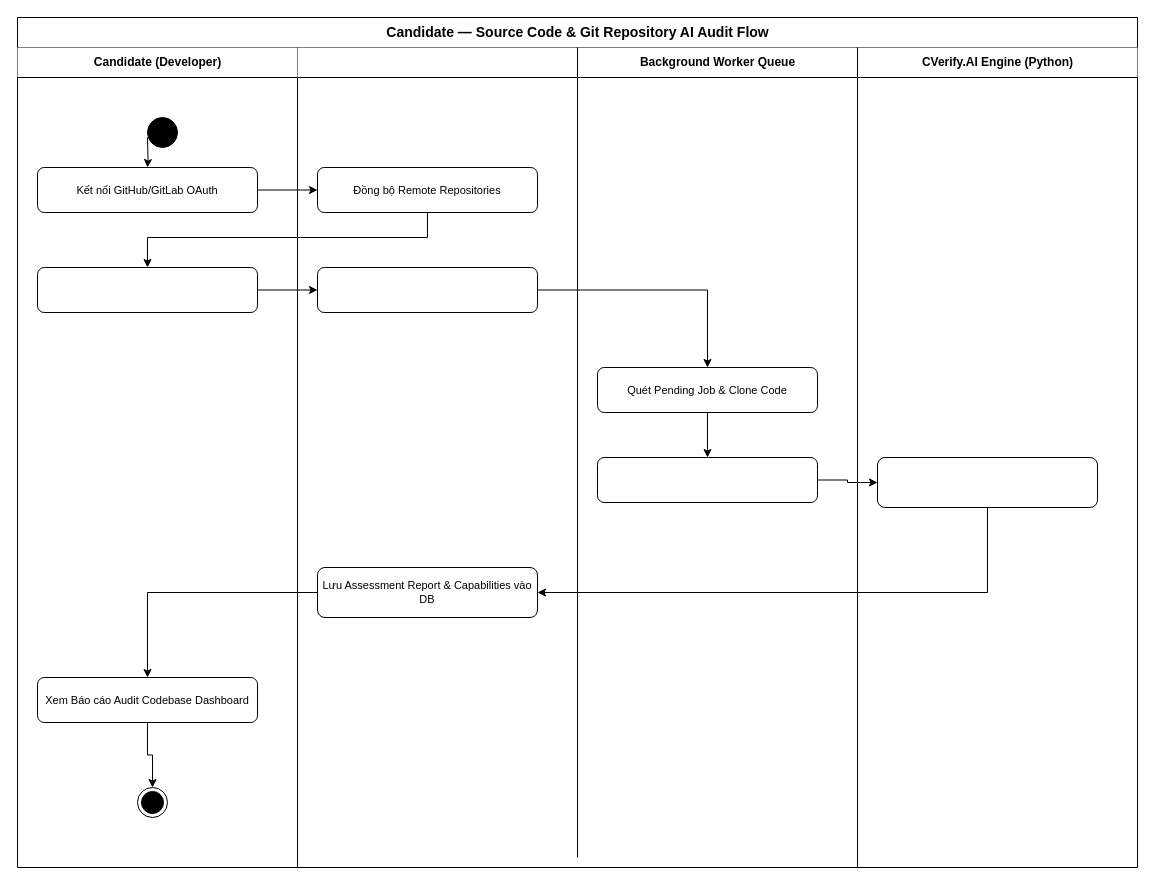
This 1155x886 diagram has some shape labels left out. The box of each missing label's shape, as (x1, y1, x2, y2) in pixels:
Chọn Repo & Yêu cầu Audit AI: (36, 266, 258, 312)
CVerify Core API (.NET): (296, 46, 578, 868)
Phân tích Tech Stack, Patterns & Commit Skill Attributions: (876, 456, 1098, 508)
Trích xuất Cấu trúc AST & File Stats: (596, 456, 818, 502)
Tạo Pipeline Job (Pending): (316, 266, 538, 312)
